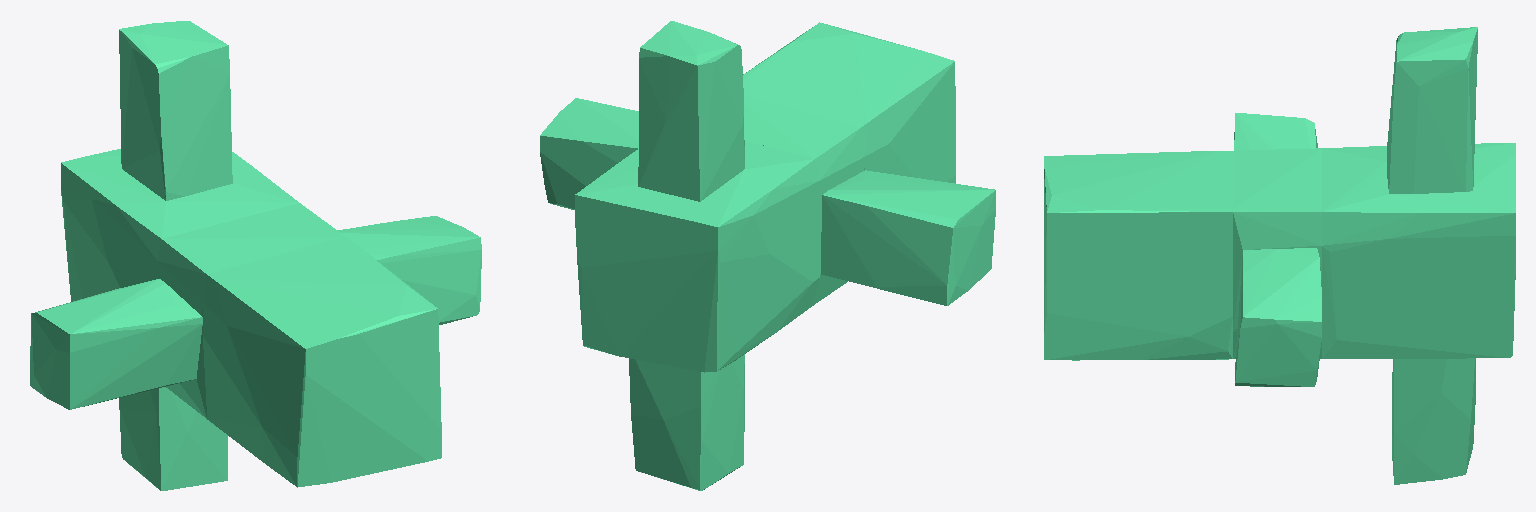
robot.urdf — blob979:
<robot name="blob979">
  <link name="random_obj_979">
    <contact>
      <lateral_friction value="1.0"/>
      <rolling_friction value="0.0"/>
      <inertia_scaling value="3.0"/>
      <contact_cfm value="0.0"/>
      <contact_erp value="1.0"/>
    </contact>
    <inertial>
      <origin rpy="0 0 0" xyz="0 0 0"/>
      <mass value="0.1"/>
      <inertia ixx="1" ixy="0" ixz="0" iyy="1" iyz="0" izz="0"/>
    </inertial>
    <visual>
      <origin rpy="0 0 0" xyz="0 0 0"/>
      <geometry>
        <mesh filename="979.obj" scale="0.015 0.015 0.015"/>
      </geometry>
      <material name="blockmat">
        <color rgba="0.45 0.97 0.73 1"/>
      </material>
    </visual>
    <collision>
      <origin rpy="0 0 0" xyz="0 0 0"/>
      <geometry>
        <mesh filename="979.obj" scale="0.015 0.015 0.015"/>
      </geometry>
    </collision>
  </link>
</robot>

--- Render facts (derived) ---
3 views of the same robot in one strip: view 1: azimuth 30°, elevation 25°; view 2: azimuth 150°, elevation 25°; view 3: azimuth 270°, elevation 25° (orthographic).
Model blob979 with 1 links and 0 joints (none), rooted at random_obj_979, posed every joint at zero.
Links seen in each view (by area): view 1: random_obj_979; view 2: random_obj_979; view 3: random_obj_979.
Link boxes in pixels (bbox=[...]): random_obj_979: bbox=[30, 21, 481, 490]; random_obj_979: bbox=[540, 21, 995, 490]; random_obj_979: bbox=[1044, 27, 1515, 484].
Bounding box of the posed robot: 0.0915 × 0.092 × 0.092 m (x, y, z).
1 mesh visuals loaded from 1 distinct referenced files (1 OBJ).